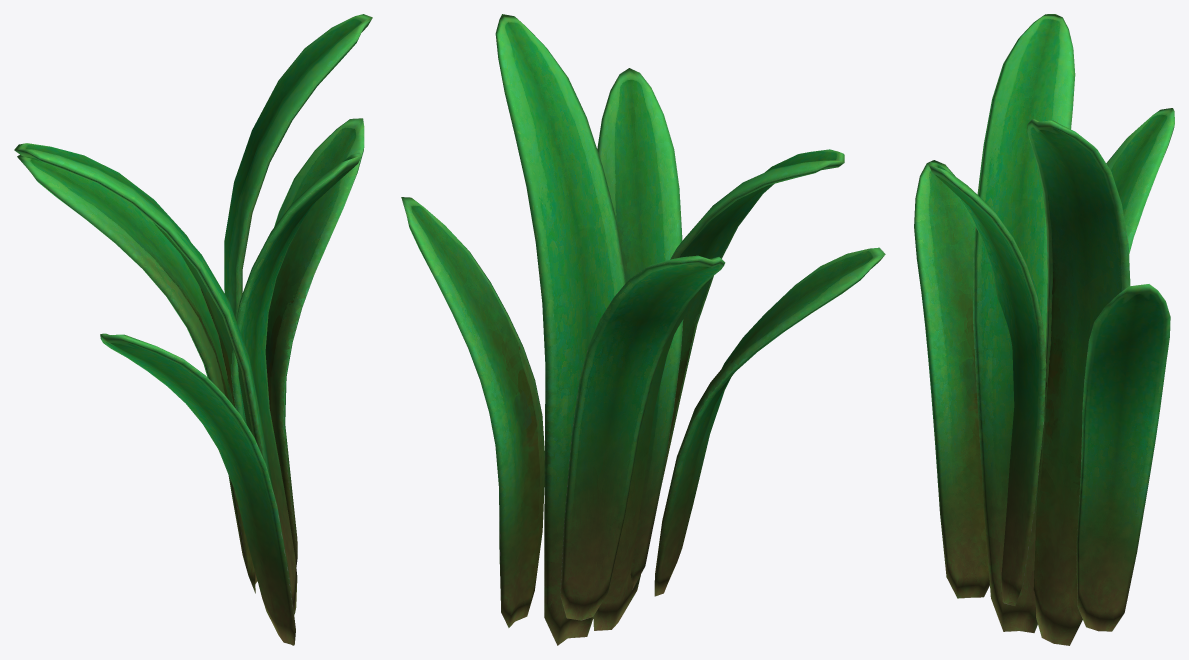
Rendered from grass_01a.fbx.
The picture shows the model from 3 angles, left to right: view 1: azimuth 30°, elevation 25°; view 2: azimuth 150°, elevation 25°; view 3: azimuth 270°, elevation 25°; orthographic projection. The views are drawn at different scales.
Parts seen in each view (by area): view 1: grass_01a.001; view 2: grass_01a.001; view 3: grass_01a.001.
Part boxes in pixels (box(x1,y1,x2,y2)): grass_01a.001: box(14, 14, 372, 645); grass_01a.001: box(401, 14, 885, 645); grass_01a.001: box(914, 14, 1174, 645).
Bounding box in the file's own units: 105 × 64.36 × 152.
